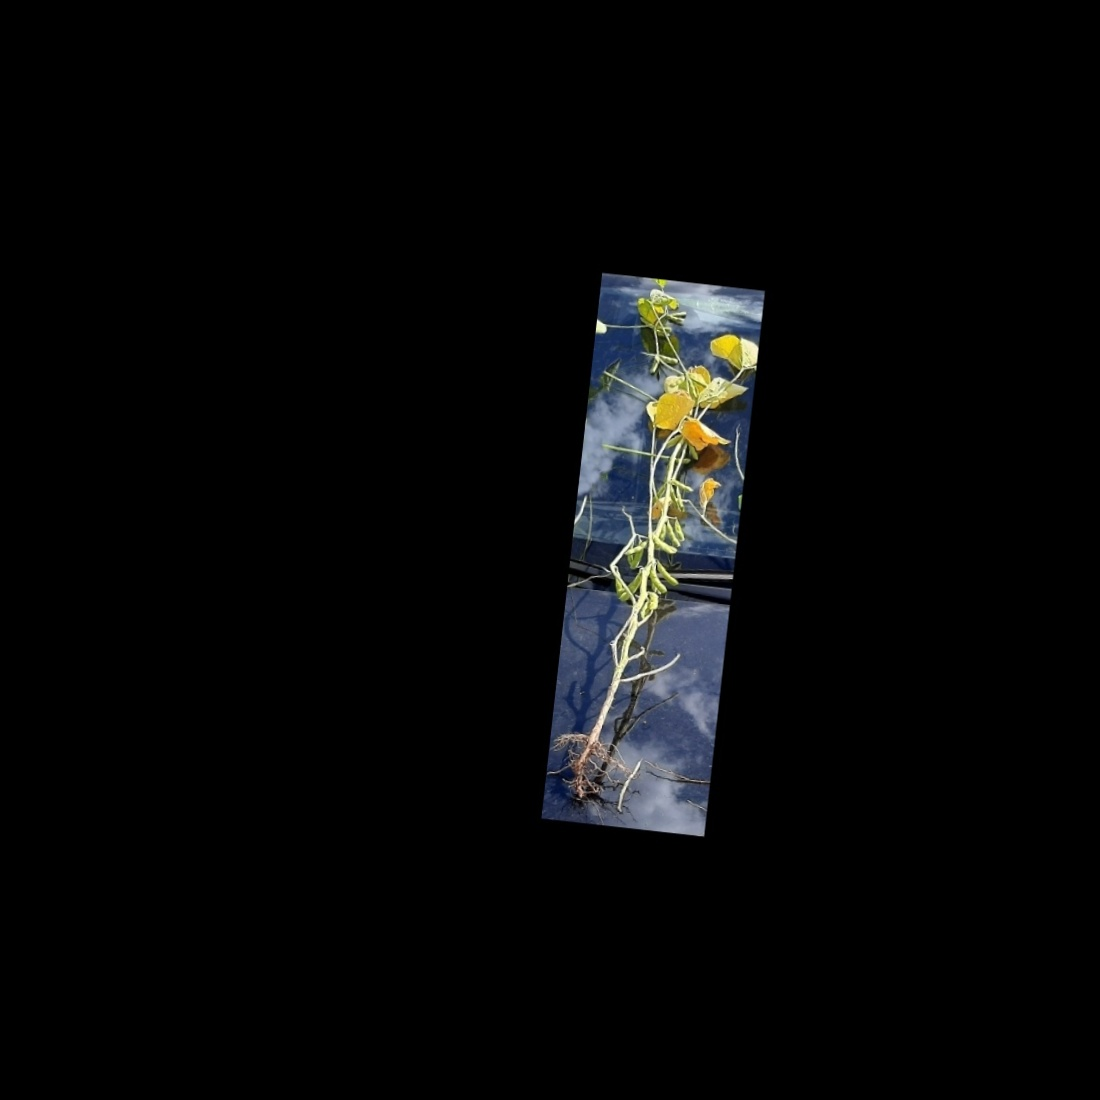pod: (644, 562, 673, 599), (615, 570, 643, 608), (650, 561, 683, 590), (659, 518, 686, 551), (646, 565, 673, 596), (620, 534, 650, 561), (648, 534, 684, 556), (626, 541, 646, 576), (668, 474, 697, 493)
soy: (552, 273, 751, 813)
